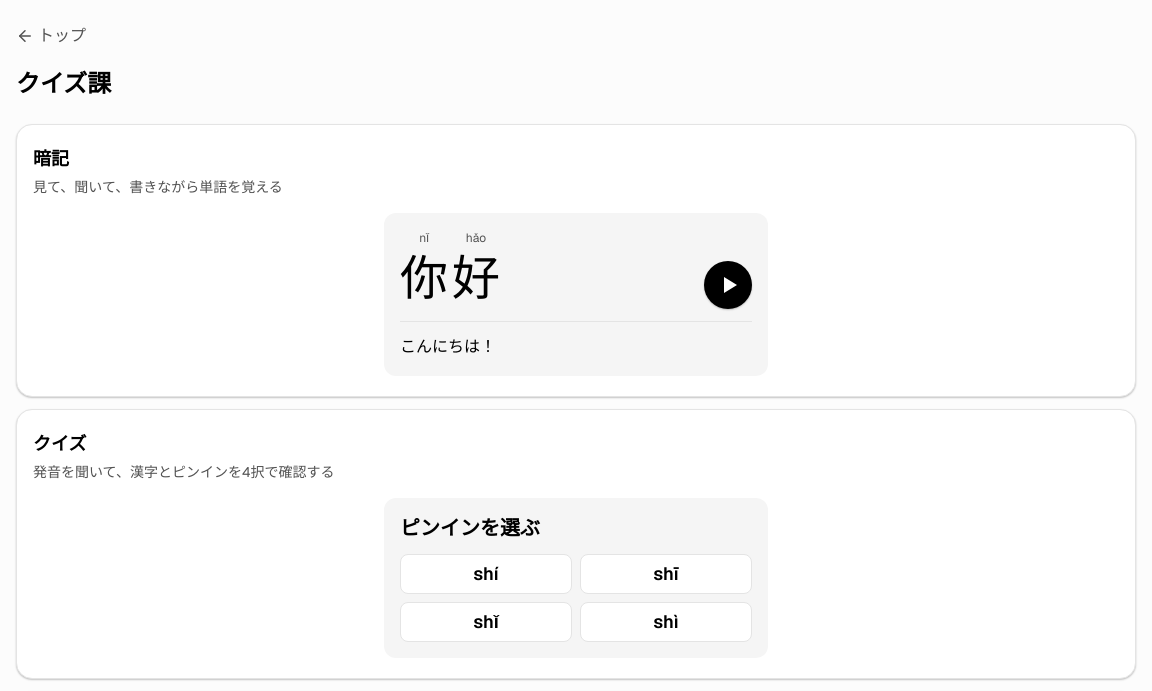
Test: LessonRunner › クイズ › 4択問題を開始できること
Click the button "クイズ 発音を聞いて、漢字とピンインを4択で確認する ピンインを選ぶ shí shī shǐ shì" at (83, 544), box [16,408,1136,678]
(page scrolled)
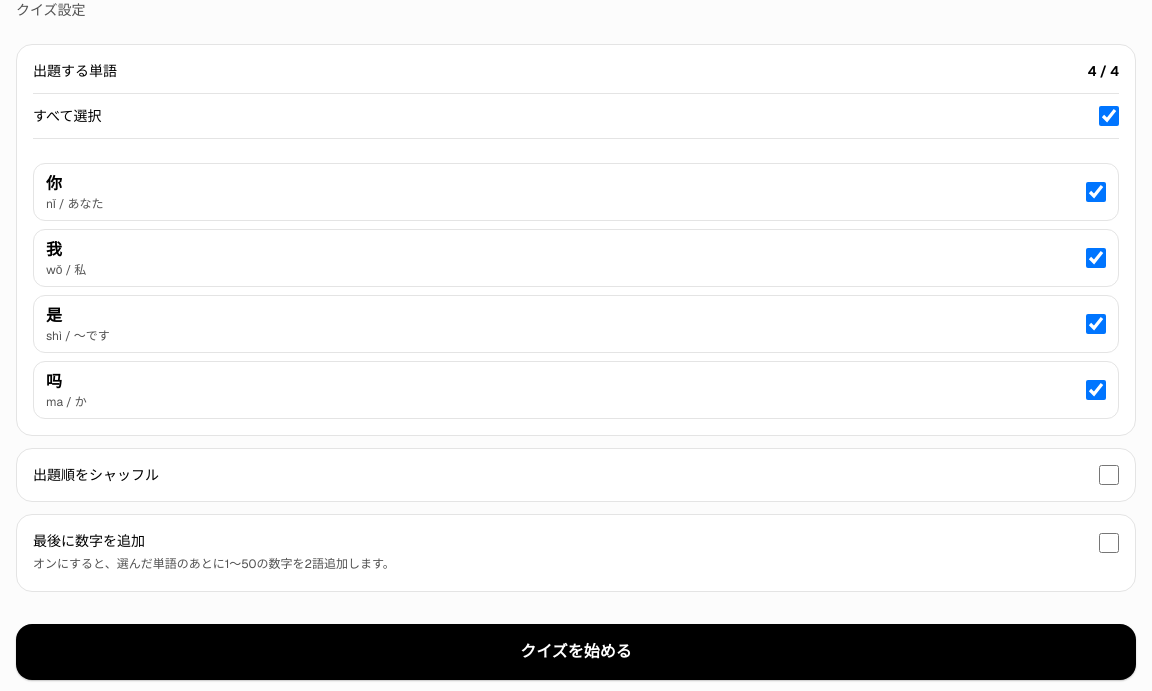
Now the text "クイズ設定" is shown, box [16,1,86,19]
Click the button "クイズを始める" at (576, 652), box [16,624,1136,680]
(page scrolled)
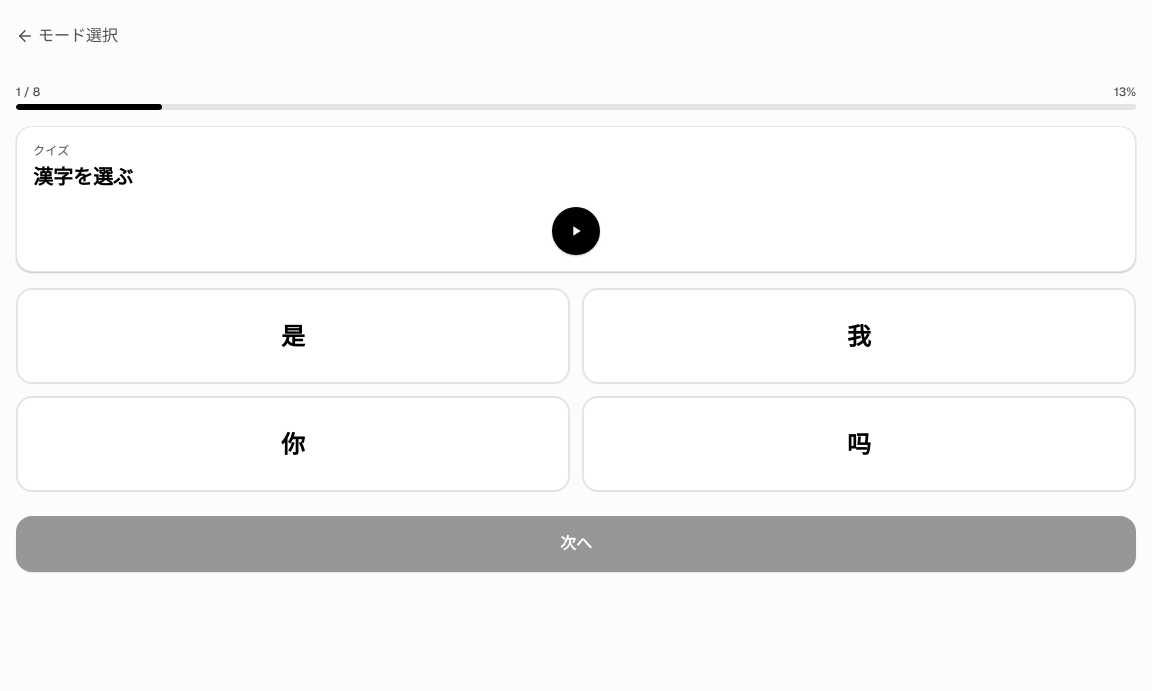
Now the text "1 / 8" is shown, box [16,84,40,100]
Now the text "クイズ" is shown once, box [33,143,70,159]
Now the number of buttons named "選択肢:" is 4, box [16,288,570,384]; [582,288,1136,384]; [16,396,570,492]; [582,396,1136,492]
